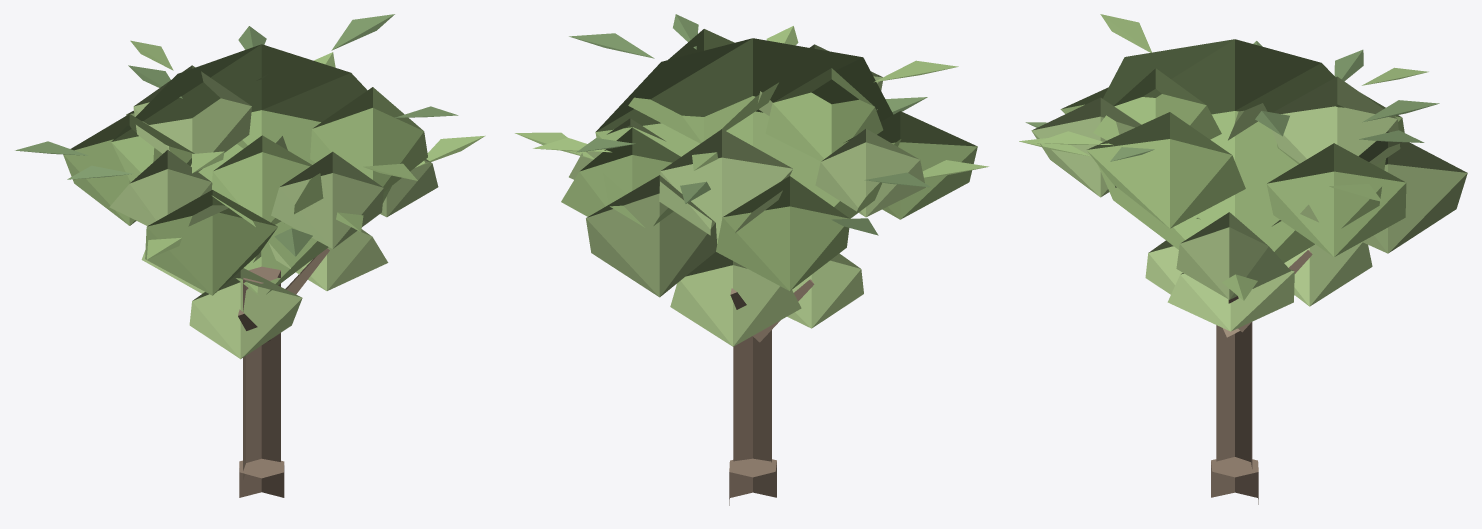
Rendered from shu.xiangzhang@subadult__bloom.glb.
The picture shows the model from 3 angles, left to right: view 1: azimuth 30°, elevation 25°; view 2: azimuth 150°, elevation 25°; view 3: azimuth 270°, elevation 25°; orthographic projection. The views are drawn at different scales.
Parts seen in each view (by area): view 1: shu.xiangzhang@subadult__bloom; view 2: shu.xiangzhang@subadult__bloom; view 3: shu.xiangzhang@subadult__bloom.
Part boxes in pixels (x1=…): shu.xiangzhang@subadult__bloom: x1=15, y1=14, x2=485, y2=497; shu.xiangzhang@subadult__bloom: x1=515, y1=14, x2=988, y2=505; shu.xiangzhang@subadult__bloom: x1=1019, y1=14, x2=1467, y2=504.
Bounding box in the file's own units: 9.37 × 9.61 × 8.59.
